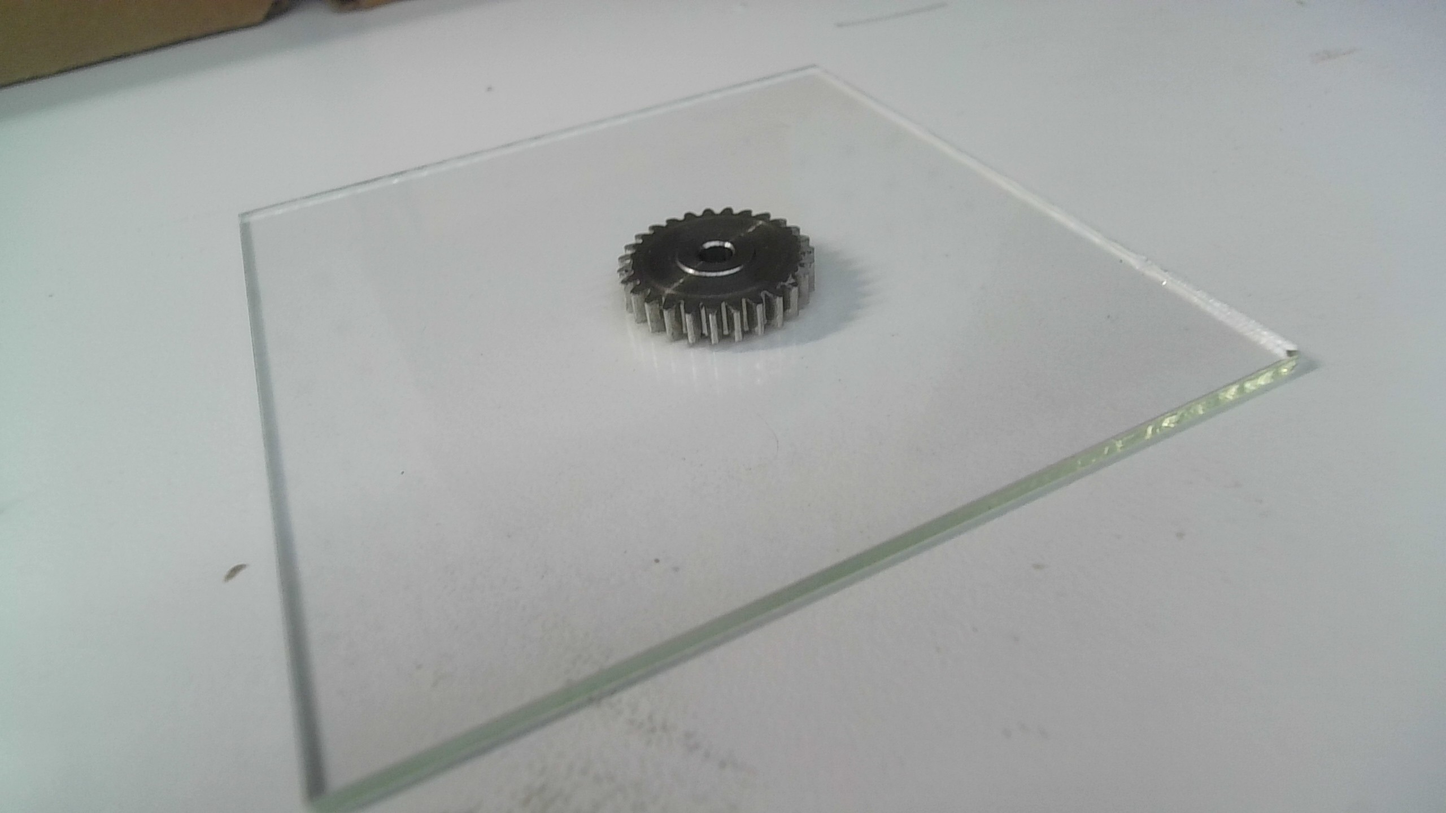gear: (616, 205, 817, 352)
